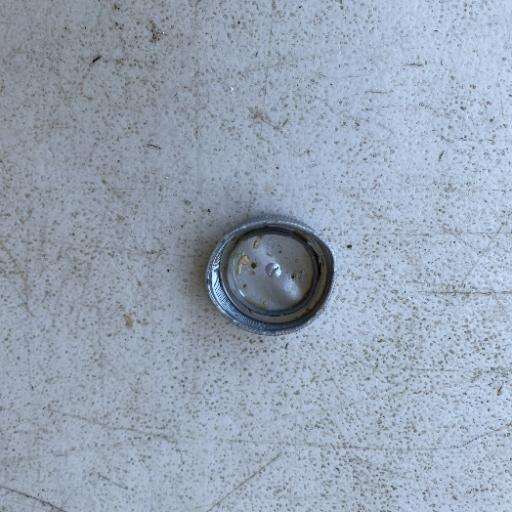Plastic: (203, 216, 336, 338)
